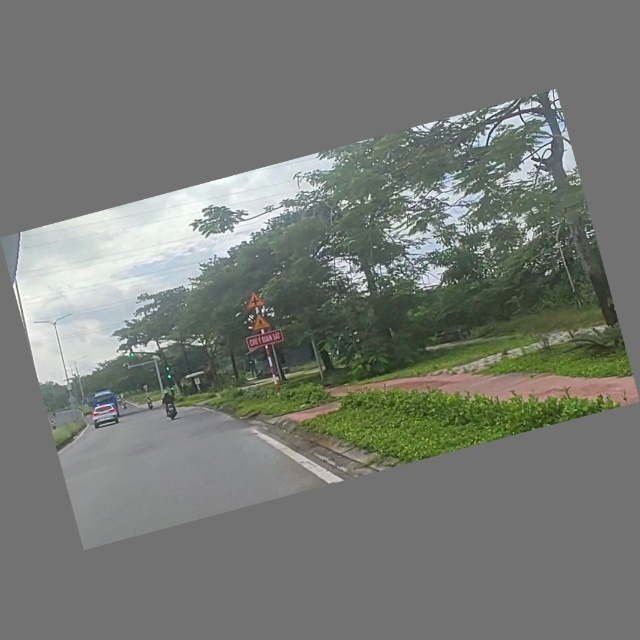W.205a: (242, 290, 266, 311)
W.224: (248, 311, 273, 332)
